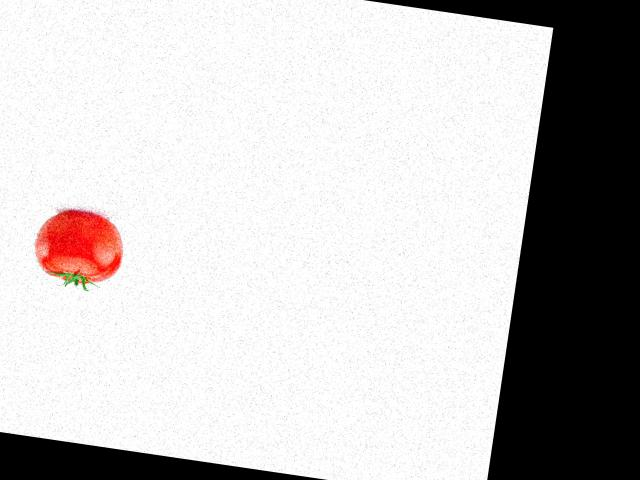tomato: (30, 207, 128, 288)
